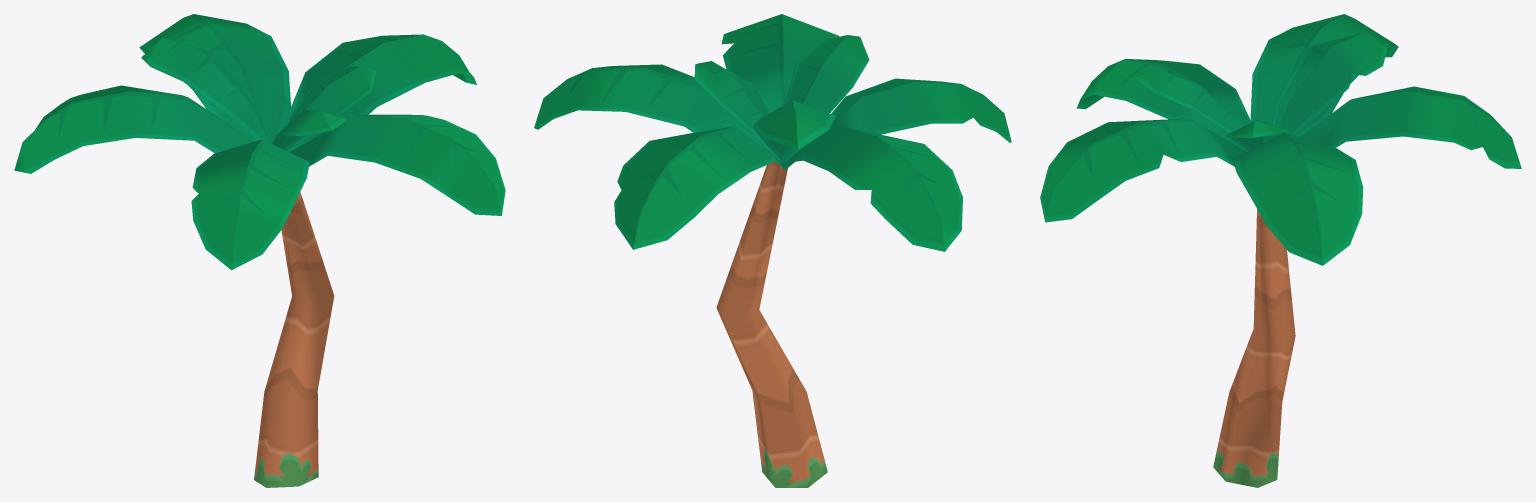
File: tree2.glb
The picture shows the model from 3 angles, left to right: view 1: azimuth 30°, elevation 25°; view 2: azimuth 150°, elevation 25°; view 3: azimuth 270°, elevation 25°; orthographic projection.
Parts seen in each view (by area): view 1: Mesh_18.002_palm_tree.001_0; view 2: Mesh_18.002_palm_tree.001_0; view 3: Mesh_18.002_palm_tree.001_0.
Part boxes in pixels (box(x1,y1,x2,y2)): Mesh_18.002_palm_tree.001_0: box(14, 14, 505, 487); Mesh_18.002_palm_tree.001_0: box(534, 14, 1011, 487); Mesh_18.002_palm_tree.001_0: box(1040, 14, 1521, 487).
Bounding box in the file's own units: 4.95 × 4.6 × 4.83.
Materials: 1 (1 with a texture image).
